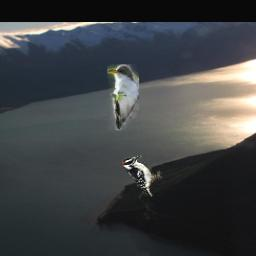Cuckoo: (107, 65, 139, 131)
Woodpecker: (122, 156, 165, 198)
